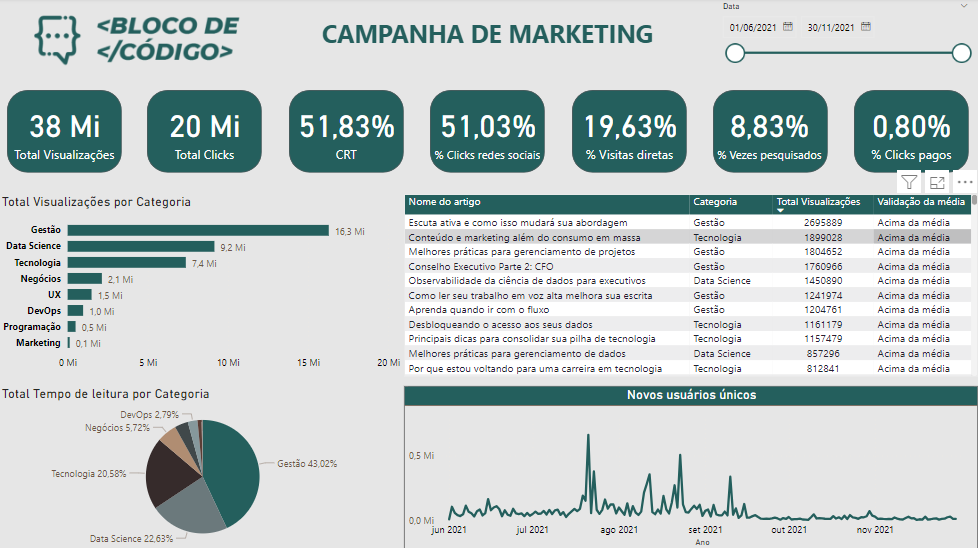

This screenshot's page, from the dashboard's own definition file:
{"tool":"powerbi","page":{"name":"Página 1","canvas":[1280,720],"ordinal":0},"visuals":[{"type":"shape","box":[195,120,150,108.3],"z":0},{"type":"image","box":[0,0,378.3,101.7],"z":1000},{"type":"shape","box":[11.7,120,150,108.3],"z":2000},{"type":"card","fields":{"Values":["Medidas.Total Visualizações"]},"box":[11.7,120,150,108.3],"z":3000},{"type":"shape","box":[380.6,120,150,108.3],"z":4000},{"type":"shape","box":[565,120,150,108.3],"z":5000},{"type":"shape","box":[749.4,120,150,108.3],"z":6000},{"type":"shape","box":[933.9,120,150,108.3],"z":7000},{"type":"shape","box":[1118.3,120,150,108.3],"z":8000},{"type":"card","fields":{"Values":["Medidas.Total Clicks"]},"box":[195,120,150,108.3],"z":9000},{"type":"card","fields":{"Values":["Medidas.CRT"]},"box":[378.3,120,151.7,108.3],"z":10000},{"type":"card","fields":{"Values":["Medidas.% Clicks redes sociais"]},"box":[565,120,150,108.3],"z":11000},{"type":"card","fields":{"Values":["Medidas.% Visitas diretas"]},"box":[750,120,150,108.3],"z":12000},{"type":"card","fields":{"Values":["Medidas.% Vezes pesquisados"]},"box":[933.3,120,150,108.3],"z":13000},{"type":"card","fields":{"Values":["Medidas.% Clicks pagos"]},"box":[1118.3,120,150,108.3],"z":14000},{"type":"barChart","fields":{"Category":["campanha bloco de código - Artigos.Categoria"],"Y":["Medidas.Total Visualizações"]},"box":[0,256.2,530,238.8],"z":15000},{"type":"slicer","fields":{"Values":["campanha bloco de código - Artigos.Data"]},"box":[934.4,0,345.6,102.2],"z":15001},{"type":"tableEx","fields":{"Values":["campanha bloco de código - Artigos.Nome do artigo","campanha bloco de código - Artigos.Categoria","Medidas.Total Visualizações","Medidas.Validação da média"]},"box":[530,256.7,750,238.3],"z":15002},{"type":"lineChart","title":"Novos usuários únicos","fields":{"Y":["Medidas.Total Novos usuários únicos"],"Category":["campanha bloco de código - Artigos.Data.Variation.Hierarquia de datas.Ano","campanha bloco de código - Artigos.Data.Variation.Hierarquia de datas.Trimestre","campanha bloco de código - Artigos.Data.Variation.Hierarquia de datas.Mês","campanha bloco de código - Artigos.Data.Variation.Hierarquia de datas.Dia"]},"box":[530,507.1,750,212.9],"z":15003},{"type":"pieChart","fields":{"Y":["Medidas.Total Tempo de leitura"],"Category":["campanha bloco de código - Artigos.Categoria"]},"box":[0,506.7,530,213.3],"z":15004},{"type":"textbox","box":[332.5,18.8,615,101.2],"z":15005}]}

Visuals, with their boxes in screenshot pixels (x1, y1, x2, y2), scaled from the page's 1280x720 canvas onto the 978x548 screenshot:
shape: left=149, top=91, right=264, bottom=174
image: left=0, top=0, right=289, bottom=77
shape: left=9, top=91, right=124, bottom=174
card - Medidas.Total Visualizações: left=9, top=91, right=124, bottom=174
shape: left=291, top=91, right=405, bottom=174
shape: left=432, top=91, right=546, bottom=174
shape: left=573, top=91, right=687, bottom=174
shape: left=714, top=91, right=828, bottom=174
shape: left=854, top=91, right=969, bottom=174
card - Medidas.Total Clicks: left=149, top=91, right=264, bottom=174
card - Medidas.CRT: left=289, top=91, right=405, bottom=174
card - Medidas.% Clicks redes sociais: left=432, top=91, right=546, bottom=174
card - Medidas.% Visitas diretas: left=573, top=91, right=688, bottom=174
card - Medidas.% Vezes pesquisados: left=713, top=91, right=828, bottom=174
card - Medidas.% Clicks pagos: left=854, top=91, right=969, bottom=174
barChart - campanha bloco de código - Artigos.Categoria x Medidas.Total Visualizações: left=0, top=195, right=405, bottom=377
slicer - campanha bloco de código - Artigos.Data: left=714, top=0, right=977, bottom=78
tableEx - campanha bloco de código - Artigos.Nome do artigo x campanha bloco de código - Artigos.Categoria: left=405, top=195, right=977, bottom=377
"Novos usuários únicos" lineChart: left=405, top=386, right=977, bottom=547
pieChart - Medidas.Total Tempo de leitura x campanha bloco de código - Artigos.Categoria: left=0, top=386, right=405, bottom=547
textbox: left=254, top=14, right=724, bottom=91
